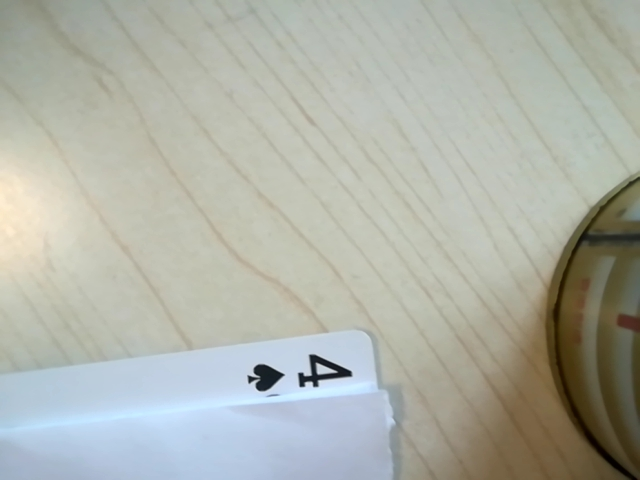ht 4: (226, 343, 377, 406)
